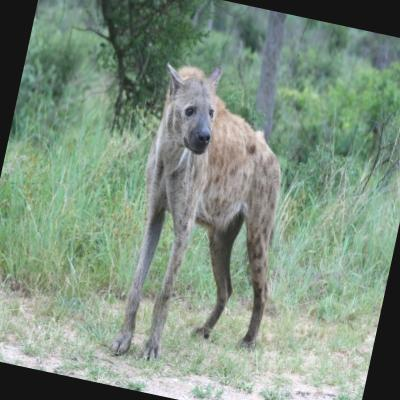hyenas: (68, 18, 326, 400)
